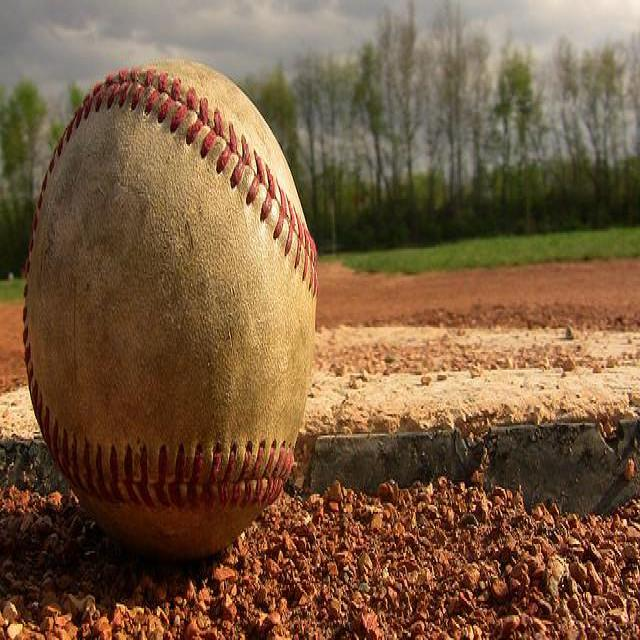baseball: (21, 55, 320, 564)
